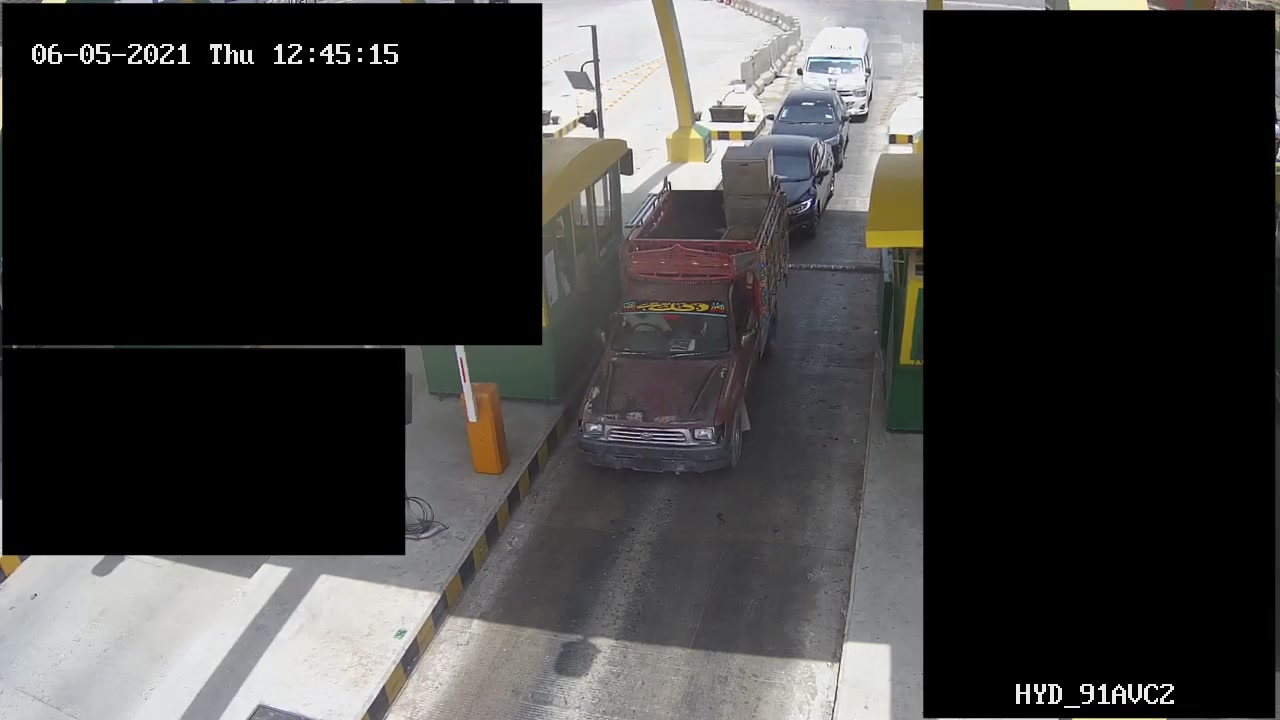F1: (571, 175, 804, 491)
